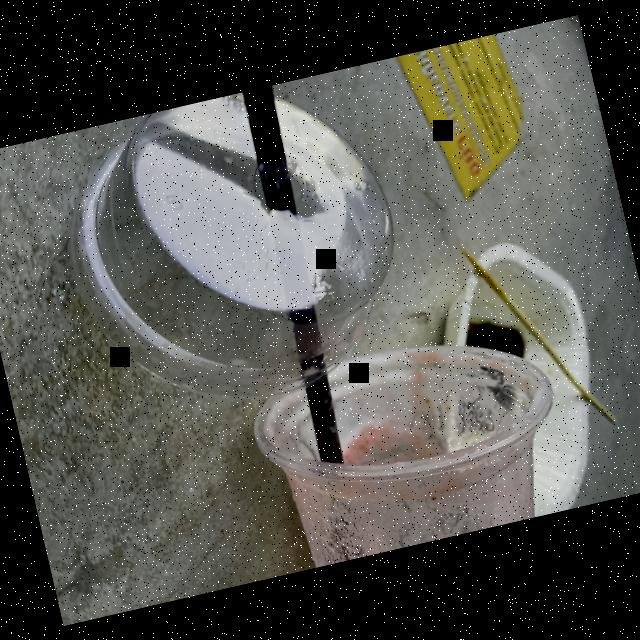cardboard_bowl: (415, 220, 634, 530)
plastic_cup: (239, 302, 579, 574)
plastic_cup_lid: (44, 64, 430, 443)
stick: (453, 240, 628, 438)
straw: (223, 84, 362, 484)
